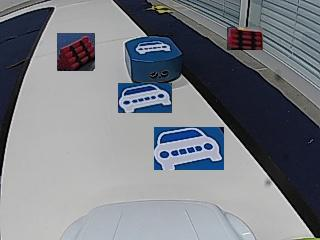safety: (135, 41, 171, 54)
